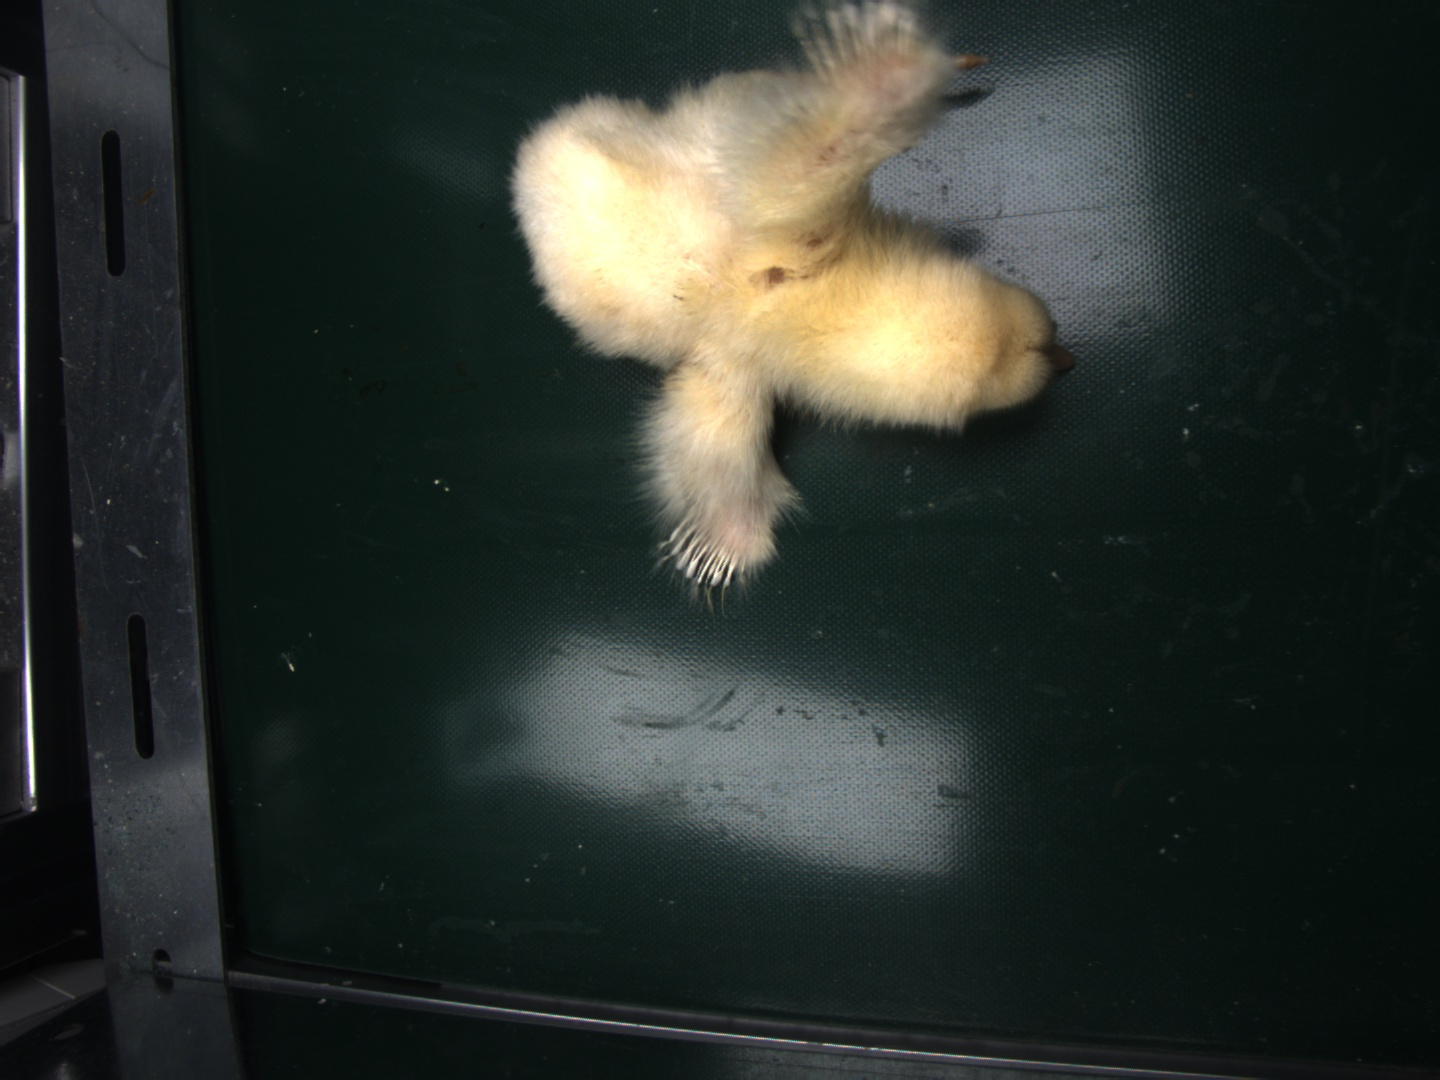male: (670, 518, 742, 589)
